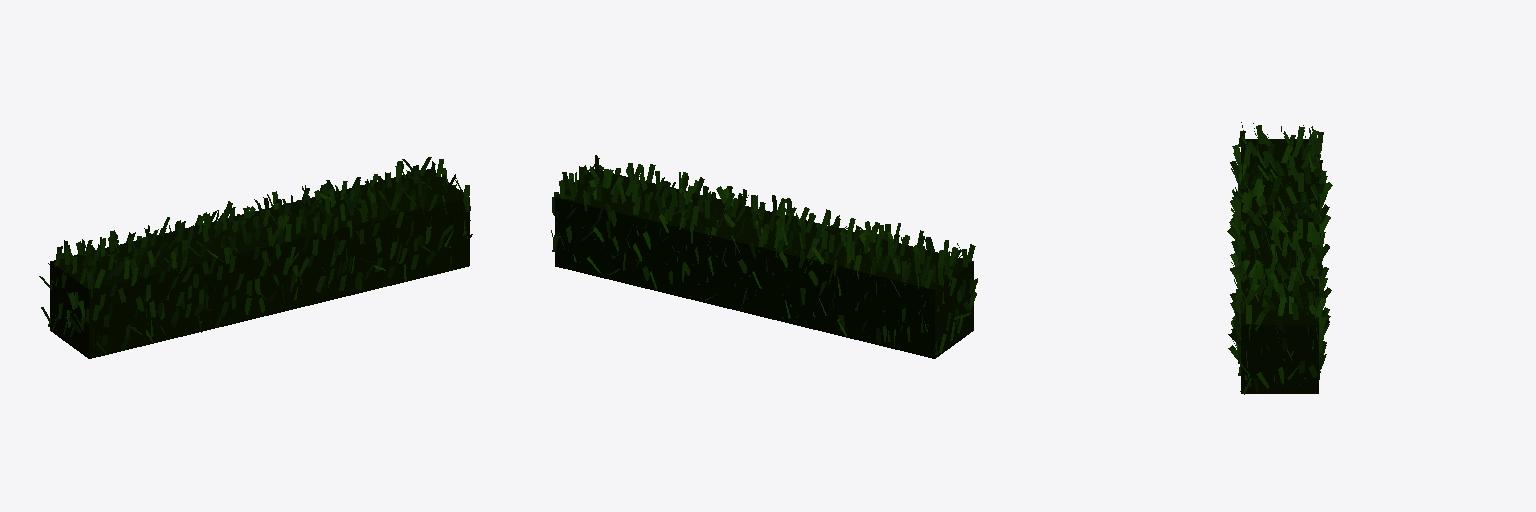
File: WallHedge3.obj
3 views of the same model, side by side, from view 1: azimuth 30°, elevation 25°; view 2: azimuth 150°, elevation 25°; view 3: azimuth 270°, elevation 25° (orthographic).
Visible parts, largest first — view 1: WallHedge3_Cube.034; view 2: WallHedge3_Cube.034; view 3: WallHedge3_Cube.034.
Boxes of the visible parts, box(x1,y1,x2,y2) form: WallHedge3_Cube.034: box(39, 157, 472, 358); WallHedge3_Cube.034: box(551, 155, 977, 358); WallHedge3_Cube.034: box(1227, 122, 1332, 394).
Size of the model in its own units: 4.76 by 0.9822 by 1.09.